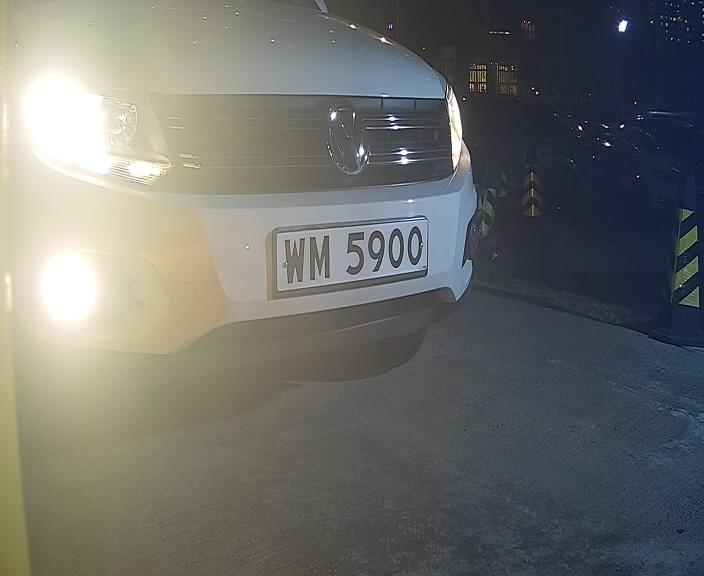License Plate: (261, 204, 450, 304)
